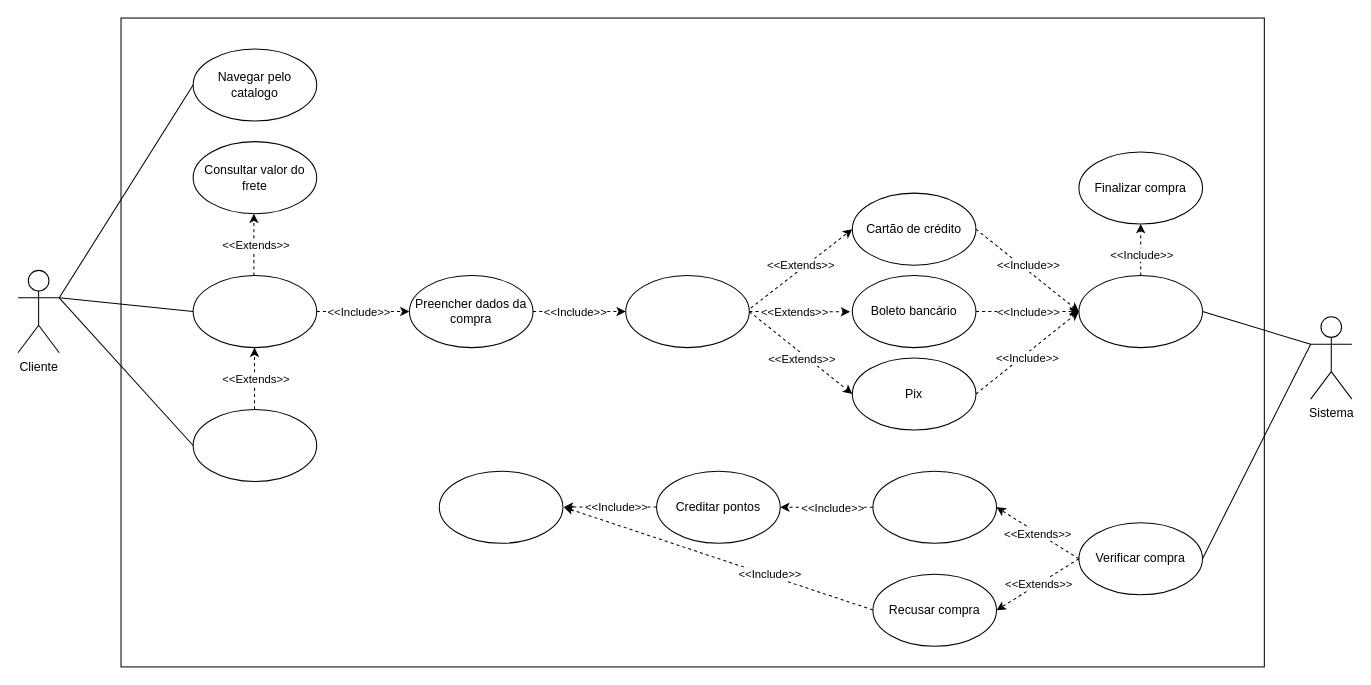
The diagram is 1371 pixels wide and 685 high, and some of its shapes have lost their labels. Here are the shapes that lost their labels. From the top down, the centre of each, then its label:
At [254,311]: "Sinalizar compra".
At [687,311]: "Escolher metodo de pagamento".
At [1140,311]: "Verificar dados da compra".
At [254,445]: "Colocar item no carrinho".
At [500,506]: "Enviar e-mail".
At [934,506]: "Aprovar compra".
